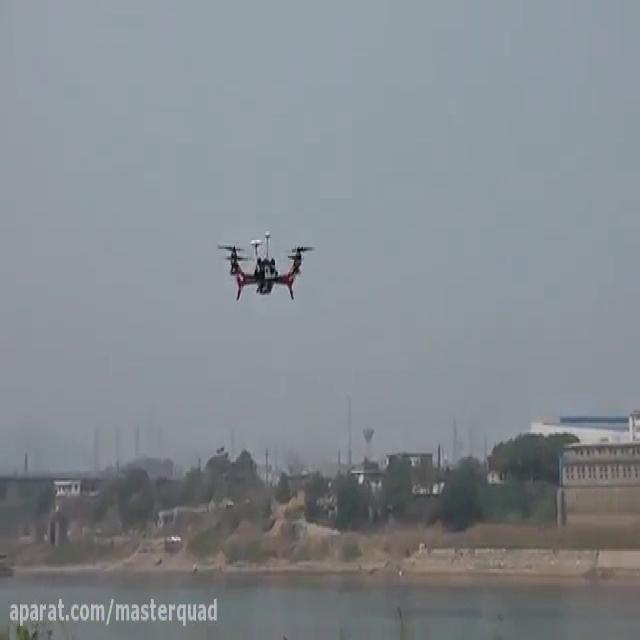drone: (213, 226, 319, 309)
